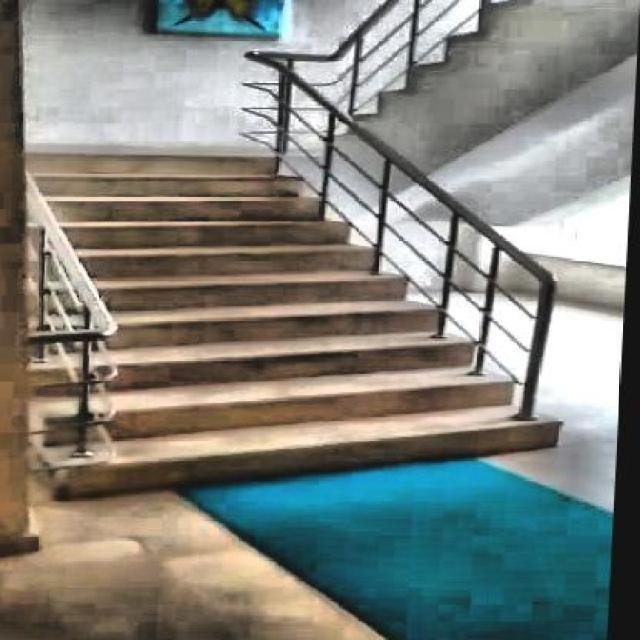stair: (31, 129, 564, 506)
